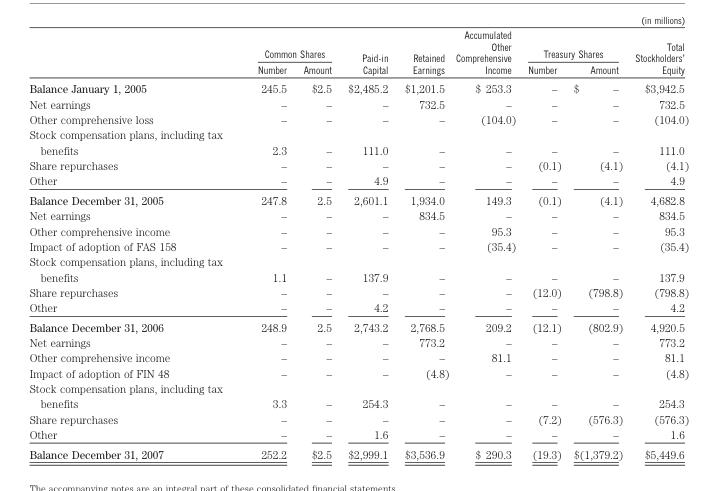table: (28, 28, 688, 460)
table column: (28, 28, 239, 460), (451, 28, 521, 460), (567, 28, 628, 460), (628, 28, 688, 460), (339, 28, 395, 460), (395, 28, 451, 460), (239, 28, 294, 460), (521, 28, 567, 460), (294, 28, 339, 460)
table column header: (28, 28, 688, 78)
table row: (28, 28, 688, 61), (28, 126, 688, 157), (28, 253, 688, 284), (28, 380, 688, 411), (28, 78, 688, 96), (28, 172, 688, 190), (28, 316, 688, 334), (28, 61, 688, 78), (28, 190, 688, 207), (28, 299, 688, 316), (28, 426, 688, 443), (28, 443, 688, 460), (28, 222, 688, 238), (28, 349, 688, 365), (28, 96, 688, 111), (28, 111, 688, 126), (28, 157, 688, 172), (28, 207, 688, 222), (28, 238, 688, 253), (28, 284, 688, 299), (28, 334, 688, 349), (28, 365, 688, 380), (28, 411, 688, 426)
table spanning cell: (521, 28, 628, 61), (451, 28, 521, 78), (239, 28, 339, 61), (628, 28, 688, 78), (339, 28, 395, 78), (395, 28, 451, 78)
